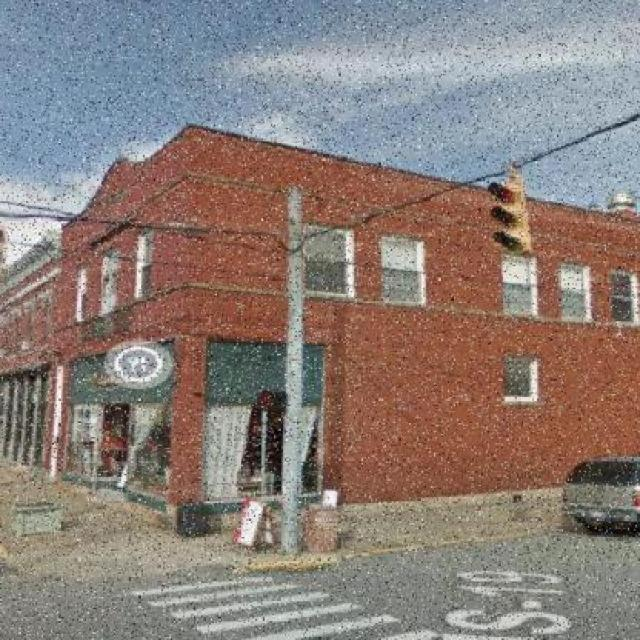pole: (279, 189, 309, 552)
wire: (305, 114, 640, 245), (0, 209, 289, 249)
